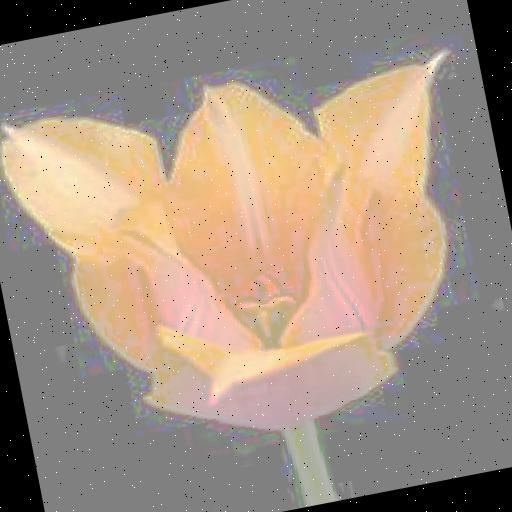tulip: (0, 39, 509, 468)
